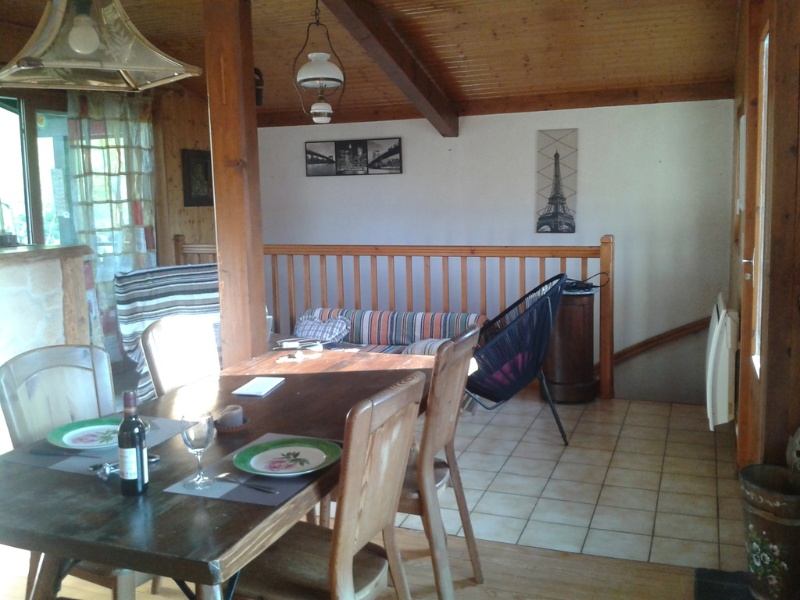chair: (281, 366, 424, 600)
dining table: (6, 297, 488, 594)
